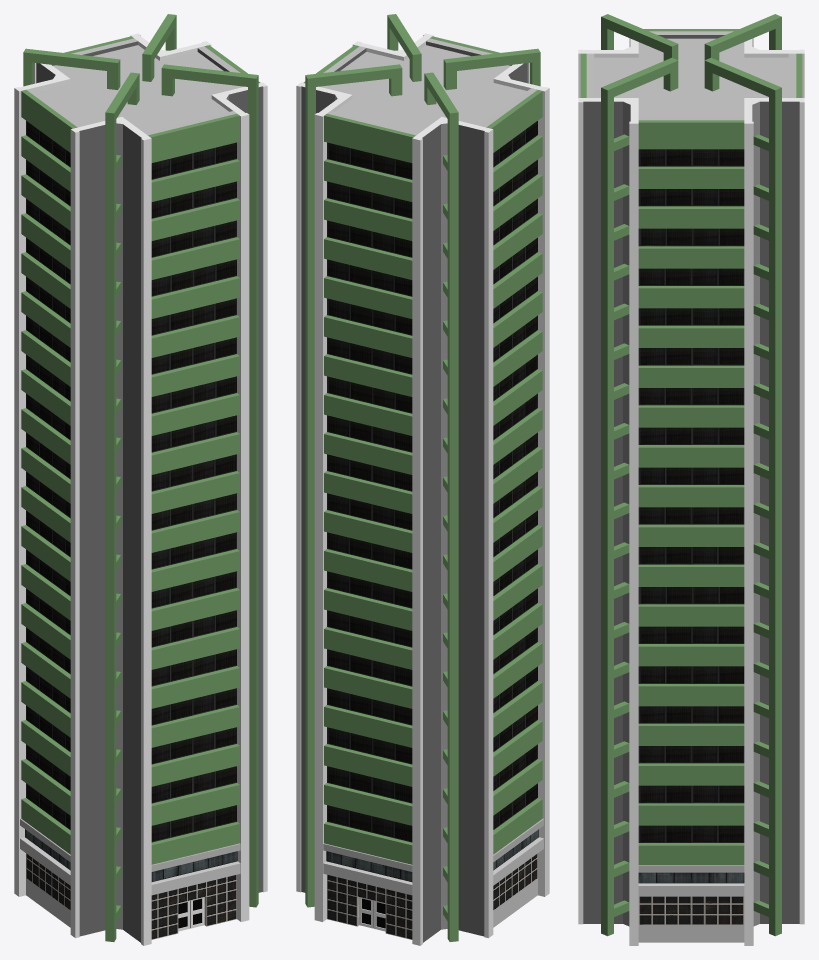
File: Tower-08.fbx
3 renders of one model, left to right at view 1: azimuth 30°, elevation 25°; view 2: azimuth 150°, elevation 25°; view 3: azimuth 270°, elevation 25°, orthographic. The views are drawn at different scales.
Parts seen in each view (by area): view 1: Building; view 2: Building; view 3: Building.
Part boxes in pixels (x1=…): Building: x1=14, y1=14, x2=267, y2=945; Building: x1=296, y1=14, x2=549, y2=945; Building: x1=578, y1=14, x2=804, y2=945.
Size of what is drawn, in the model's own units: 15.47 by 63.78 by 15.47.
